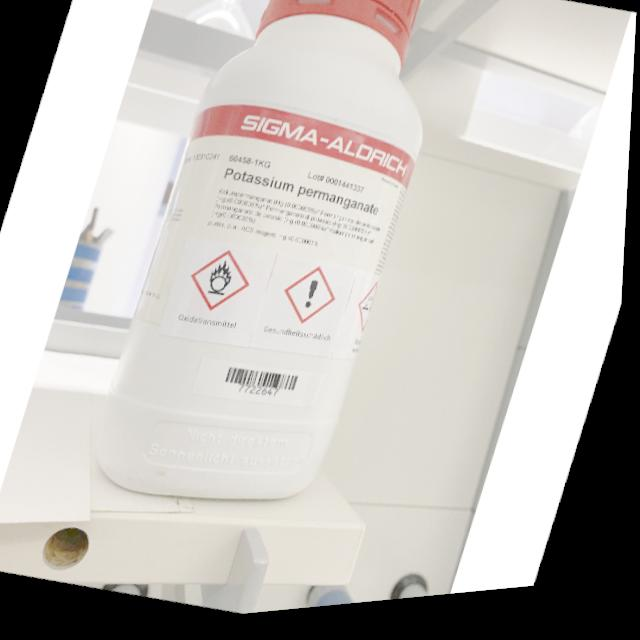health-ozone layer hazard: (306, 285, 322, 316)
oxidising: (206, 258, 240, 303)
